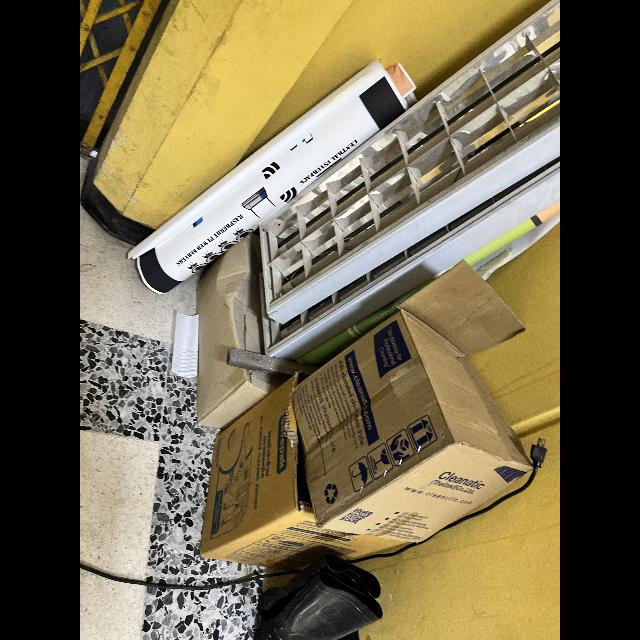cardboard_box: (296, 254, 530, 542), (205, 377, 382, 573), (196, 224, 284, 426)
